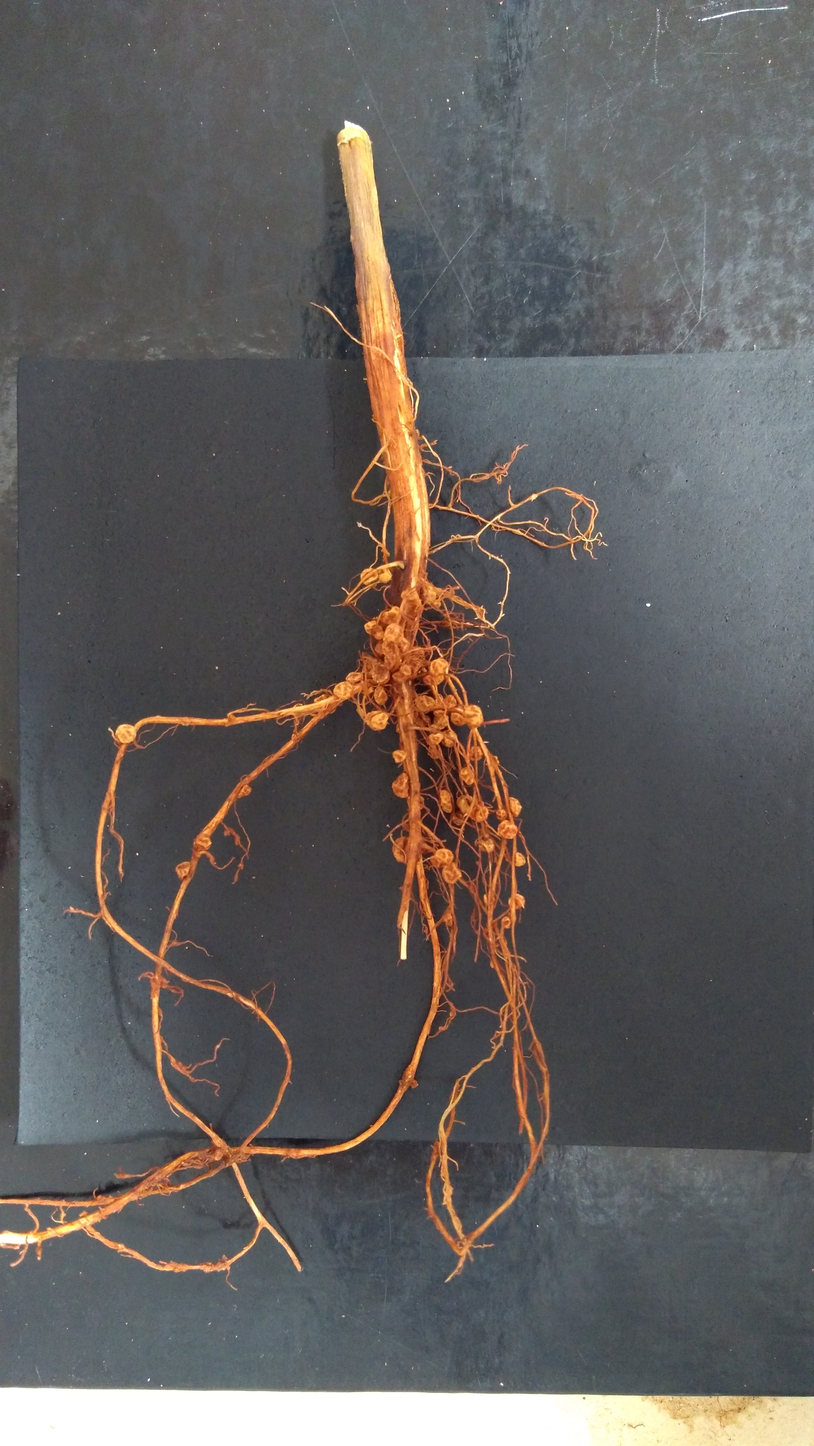nodule: (463, 704, 485, 731), (399, 596, 424, 619), (390, 771, 410, 799), (390, 836, 409, 865), (364, 709, 389, 731), (312, 693, 337, 715), (496, 819, 520, 841), (441, 861, 462, 886), (383, 622, 405, 645), (114, 723, 137, 744), (333, 680, 354, 702), (370, 662, 390, 685), (455, 793, 475, 816), (361, 655, 380, 679), (428, 657, 449, 677), (507, 892, 527, 913), (438, 789, 454, 815), (506, 795, 523, 819), (383, 652, 403, 672), (192, 833, 212, 853), (405, 793, 426, 812), (432, 708, 450, 730), (381, 608, 402, 626), (434, 848, 455, 866), (422, 672, 447, 687), (477, 834, 496, 853), (470, 805, 490, 823), (414, 695, 435, 712), (458, 766, 475, 787), (373, 686, 390, 706), (441, 728, 458, 748), (174, 861, 190, 882), (360, 568, 378, 585), (426, 742, 443, 760), (390, 670, 410, 685), (468, 744, 484, 762), (400, 586, 419, 601), (441, 693, 458, 709), (450, 711, 466, 728), (449, 810, 465, 827), (372, 640, 387, 658), (344, 671, 366, 683), (392, 749, 408, 765), (363, 619, 378, 636), (237, 784, 252, 800), (427, 732, 444, 746), (513, 851, 527, 868), (485, 754, 501, 768), (398, 636, 411, 653), (378, 570, 393, 584), (421, 580, 434, 596), (494, 809, 507, 823), (399, 664, 413, 677), (482, 893, 497, 905), (411, 645, 425, 657), (442, 912, 454, 926), (360, 686, 375, 697), (425, 598, 441, 608), (370, 624, 383, 636), (500, 916, 511, 929), (423, 590, 436, 601), (373, 630, 385, 641), (213, 1149, 223, 1161), (405, 376, 413, 388), (531, 493, 537, 500)
